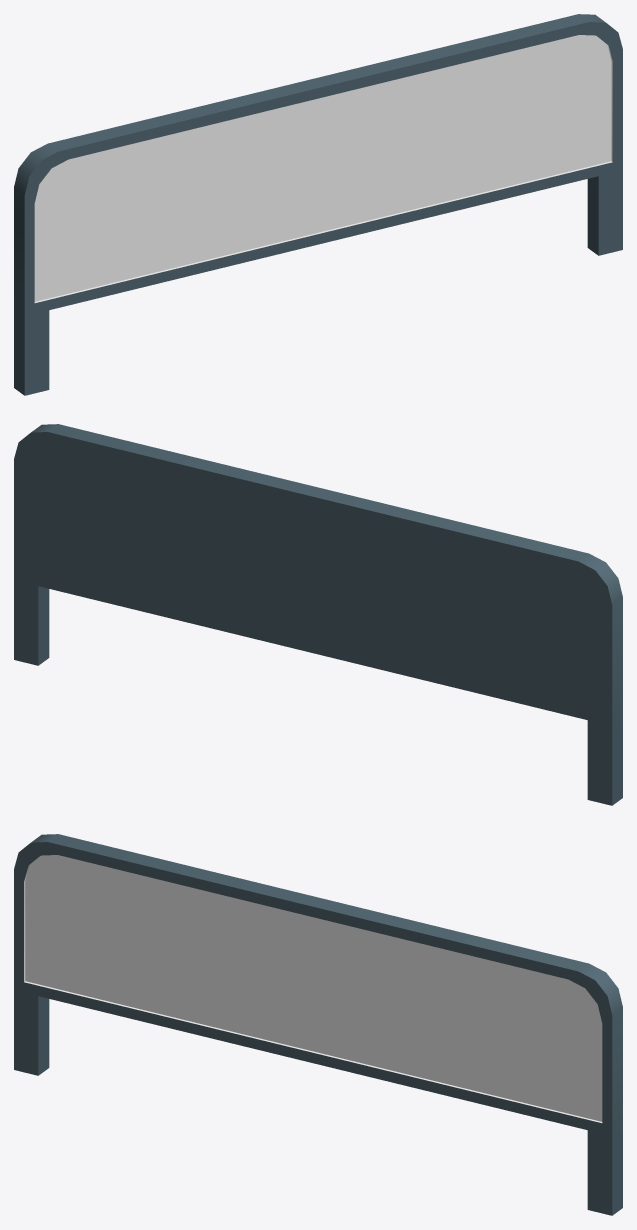
File: Top_Wall.fbx
3 views of the same model, one above another, from view 1: azimuth 30°, elevation 25°; view 2: azimuth 150°, elevation 25°; view 3: azimuth 330°, elevation 25° (orthographic).
Parts seen in each view (by area): view 1: Cube; view 2: Cube; view 3: Cube.
Part boxes in pixels (box(x1,y1,x2,y2)): Cube: box(14, 14, 622, 395); Cube: box(14, 424, 622, 805); Cube: box(14, 834, 622, 1215).
Bounding box in the file's own units: 320 × 121 × 10.
